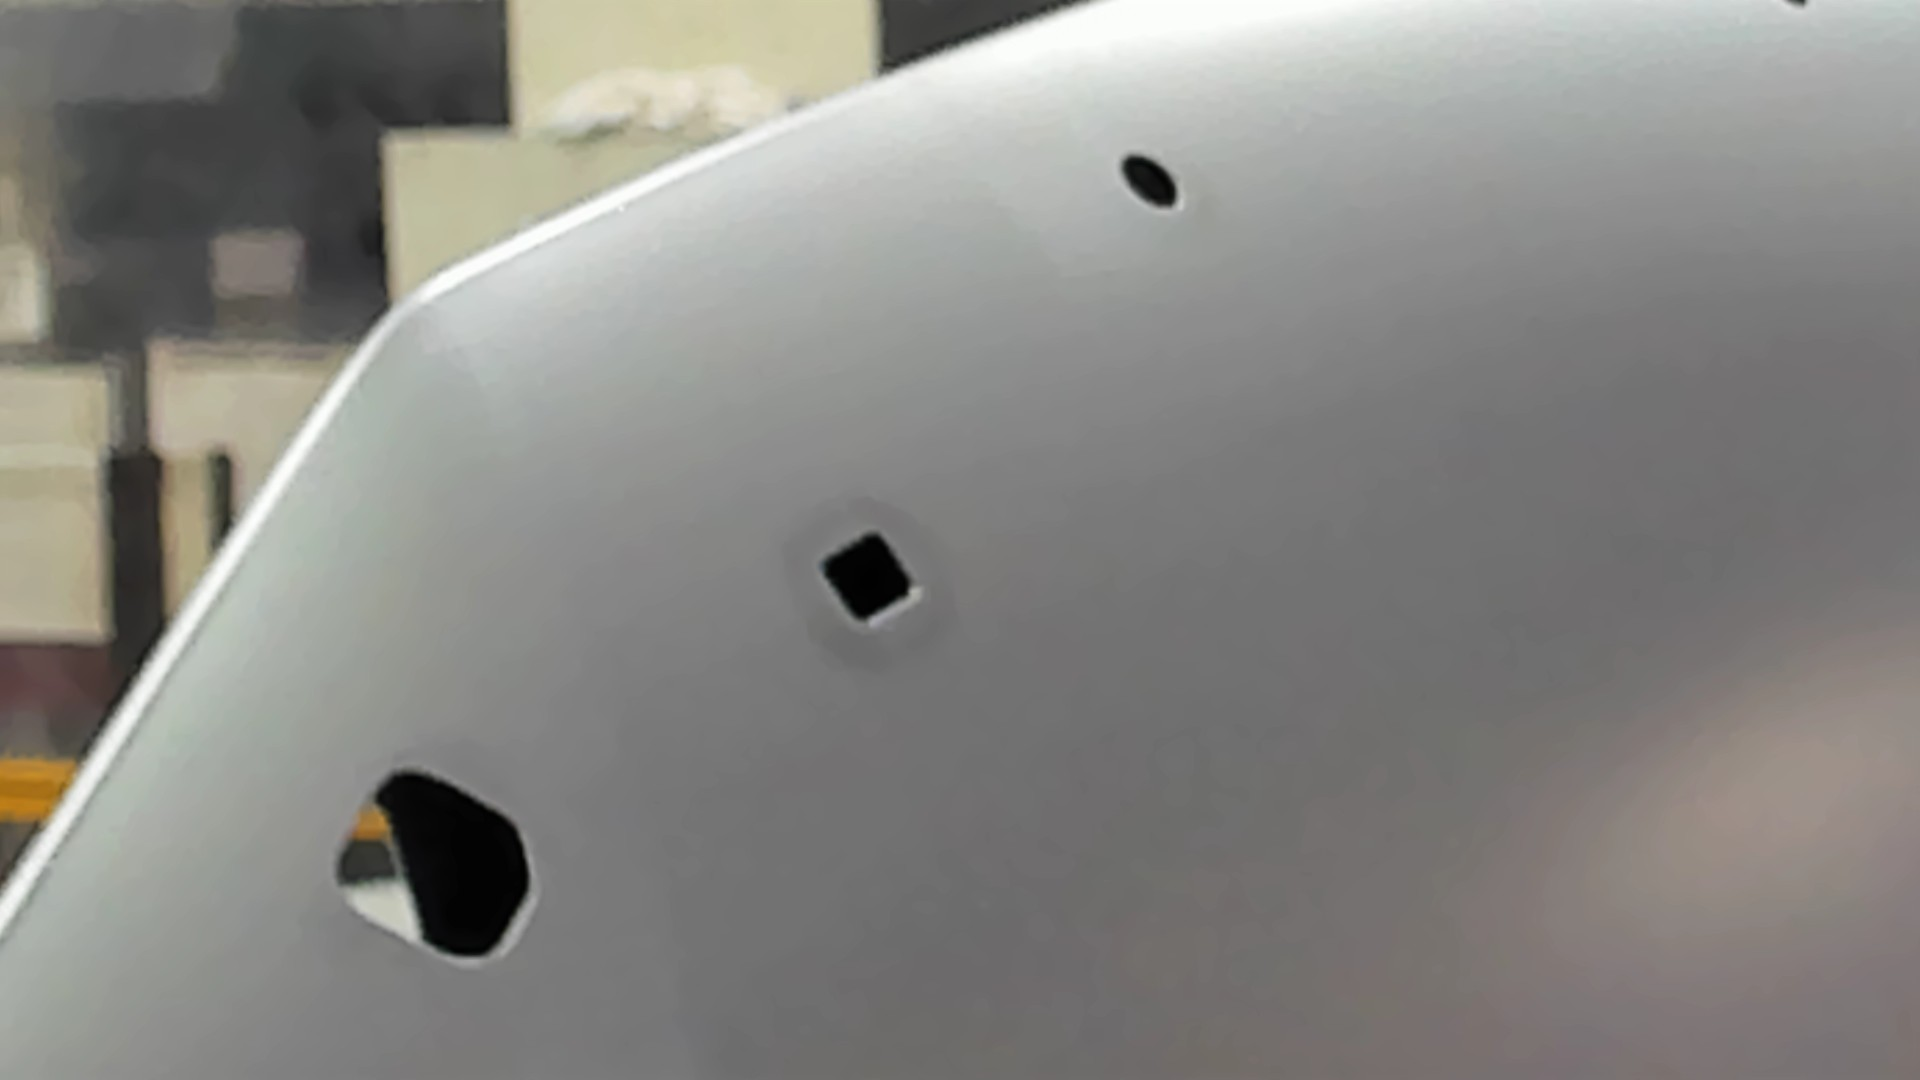chico: (1120, 149, 1182, 214), (1775, 1, 1815, 17)
grande: (328, 760, 541, 971)
mediano: (814, 524, 927, 638)
